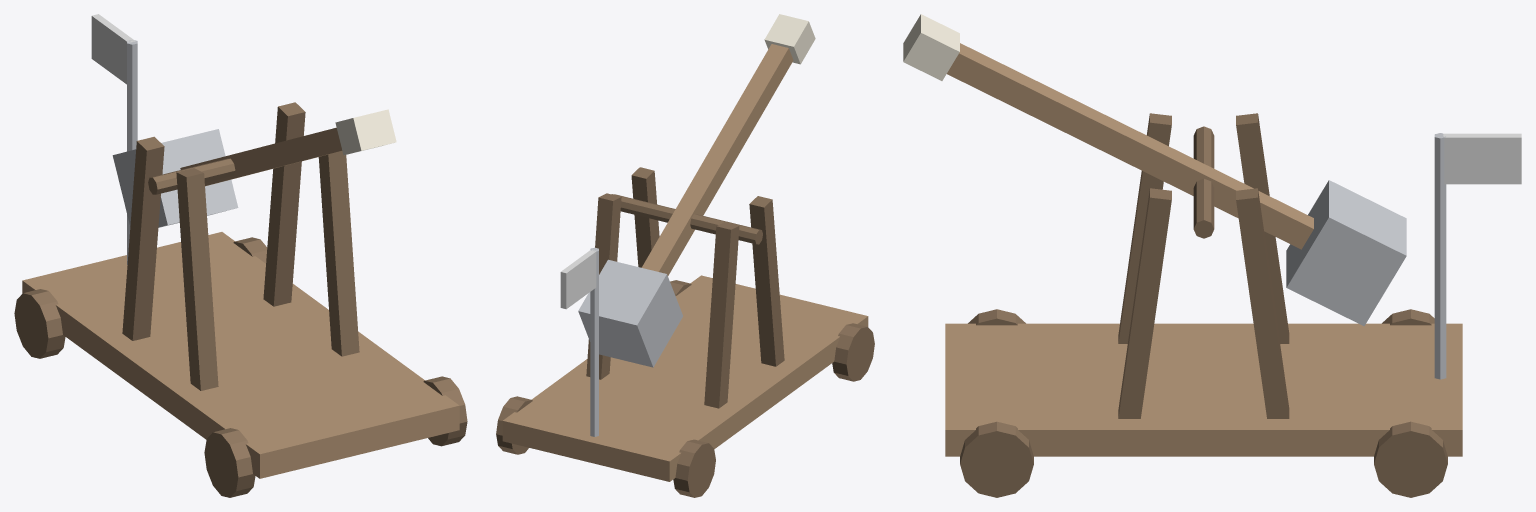
The model's file is Trebuchet.glb.
The picture shows the model from 3 angles, left to right: view 1: azimuth 30°, elevation 25°; view 2: azimuth 150°, elevation 25°; view 3: azimuth 270°, elevation 25°; orthographic projection. The views are drawn at different scales.
Parts seen in each view (by area): view 1: Body; view 2: Body; view 3: Body.
Boxes of the visible parts, <box> form: Body: <box>14,14,467,497</box>; Body: <box>496,14,874,497</box>; Body: <box>903,14,1521,497</box>.
Bounding box in the file's own units: 0.39 × 0.6177 × 0.8369.
